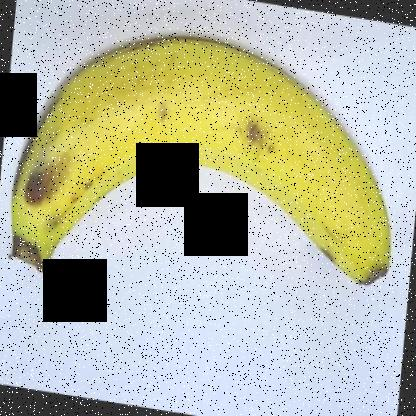freshripe: (1, 19, 400, 312)
